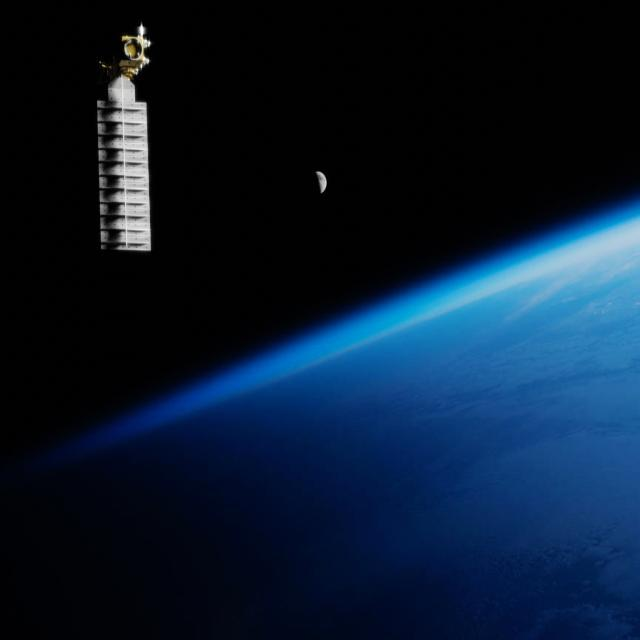satellite: (64, 0, 175, 285)
